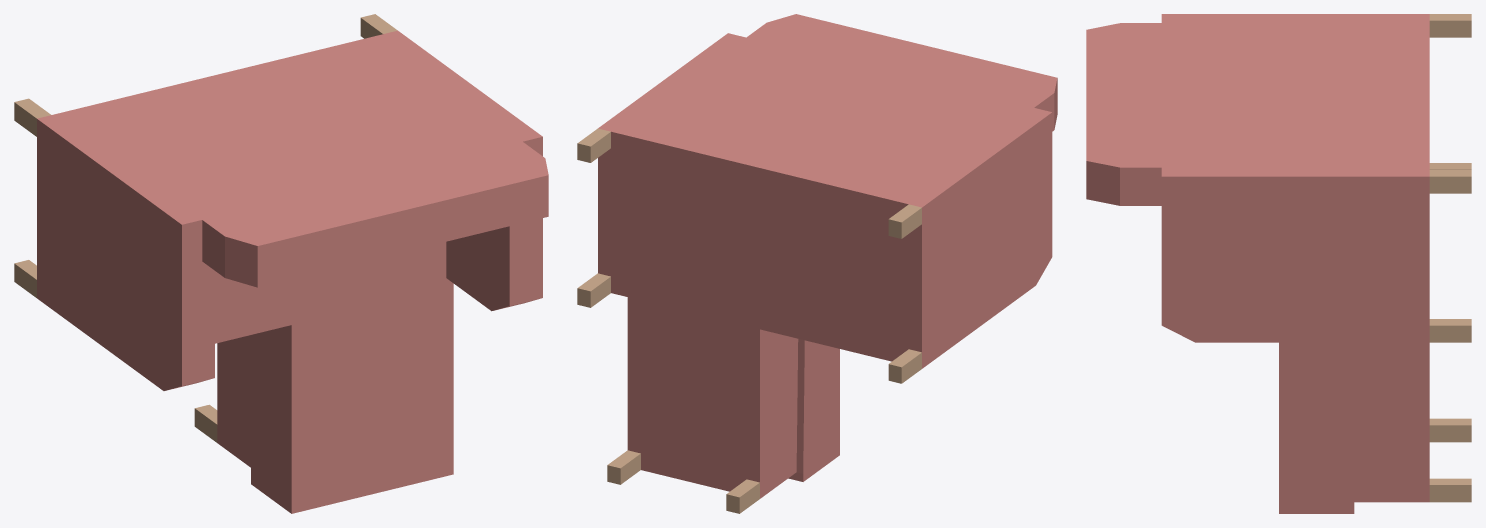
File: sectional.glb
The picture shows the model from 3 angles, left to right: view 1: azimuth 30°, elevation 25°; view 2: azimuth 150°, elevation 25°; view 3: azimuth 270°, elevation 25°; orthographic projection. The views are drawn at different scales.
Parts seen in each view (by area): view 1: furniture/sectional; view 2: furniture/sectional; view 3: furniture/sectional.
Boxes of the visible parts, x1,y1,x2,y2 form: furniture/sectional: (14,14,548,513); furniture/sectional: (577,14,1057,513); furniture/sectional: (1086,14,1471,513).
Bounding box in the file's own units: 1 × 1 × 1.
